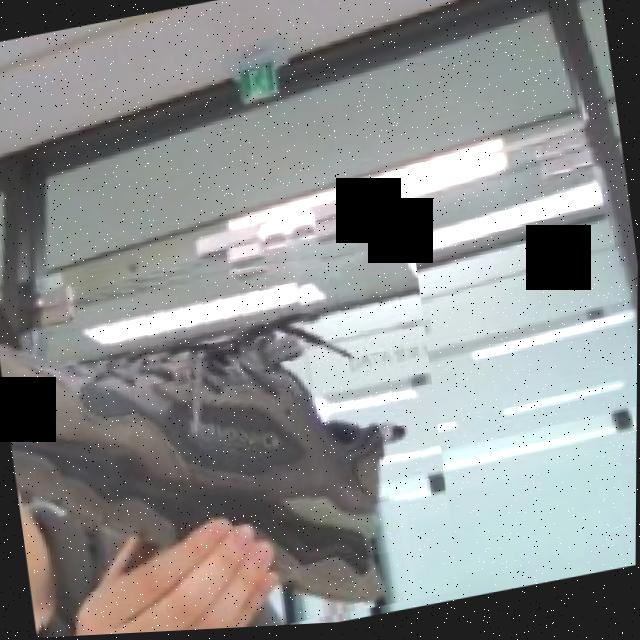shoe: (0, 225, 463, 640)
